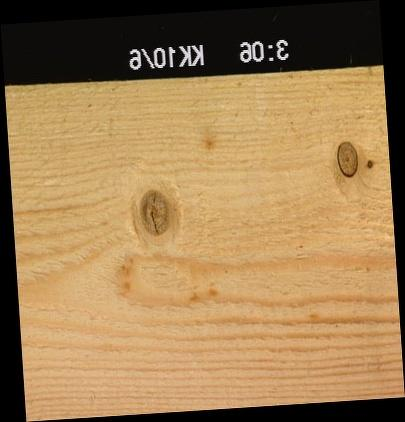dry_knot: (335, 139, 358, 178), (365, 158, 373, 168)
sound_knot: (138, 186, 173, 236)
